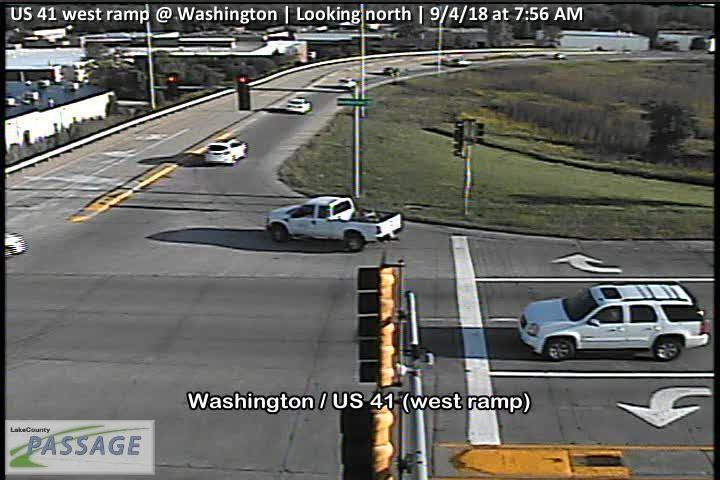SUV: (519, 281, 711, 362), (204, 136, 248, 166), (337, 76, 359, 89), (382, 66, 401, 77), (553, 51, 569, 60)
Sedan: (286, 97, 312, 115), (458, 60, 475, 66)
Truck: (264, 194, 403, 251), (441, 56, 464, 64)
